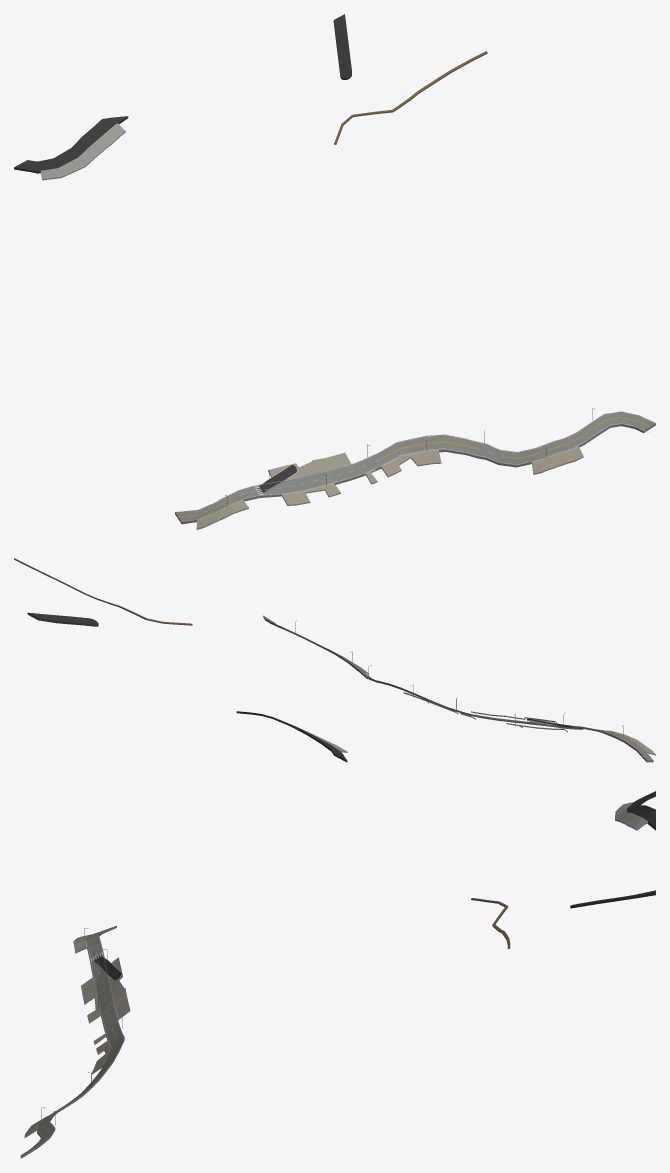
File: 17-109464-59470.1aea205a.glb
3 views of the same model, one above another, from view 1: azimuth 30°, elevation 25°; view 2: azimuth 150°, elevation 25°; view 3: azimuth 270°, elevation 25° (orthographic). The views are drawn at different scales.
Size of the model in its own units: 294 by 141 by 295.
